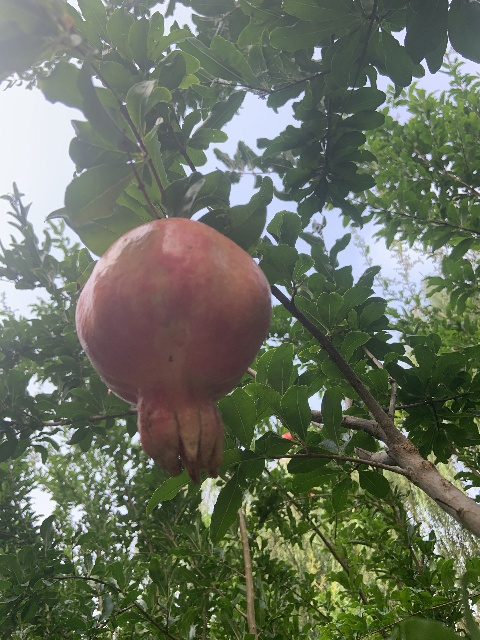ripe: (75, 217, 272, 483)
